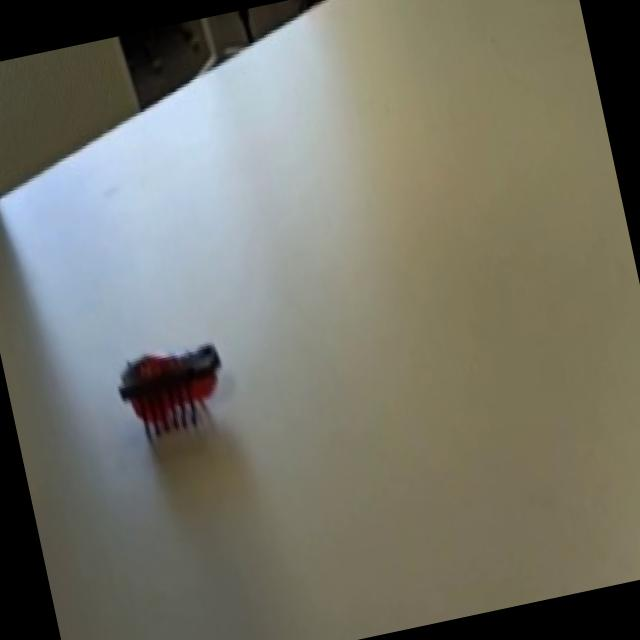2_NanoBug_Negro: (96, 294, 249, 463)
